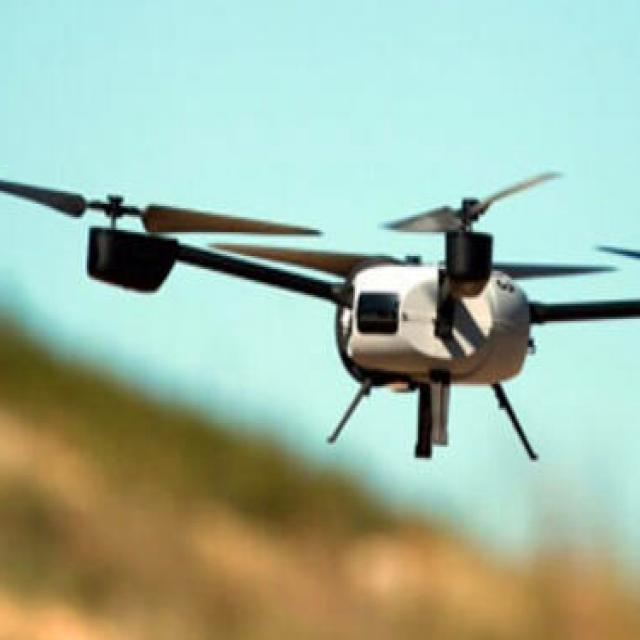drone: (0, 117, 640, 436)
